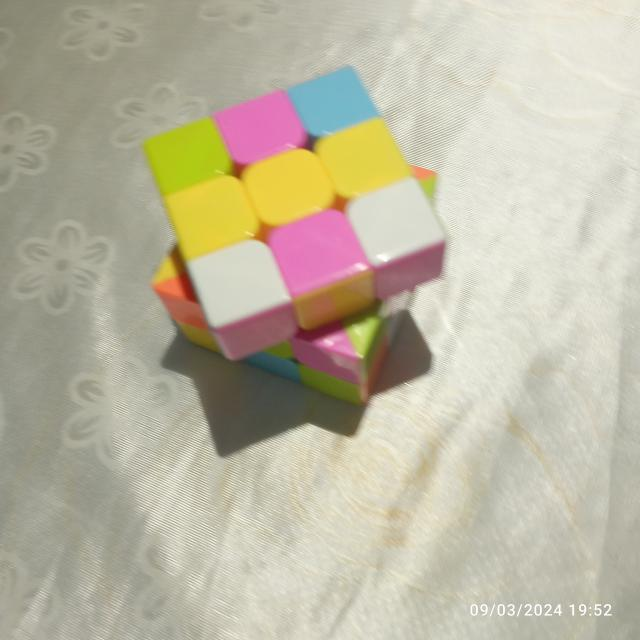Rub: (138, 59, 448, 412)
